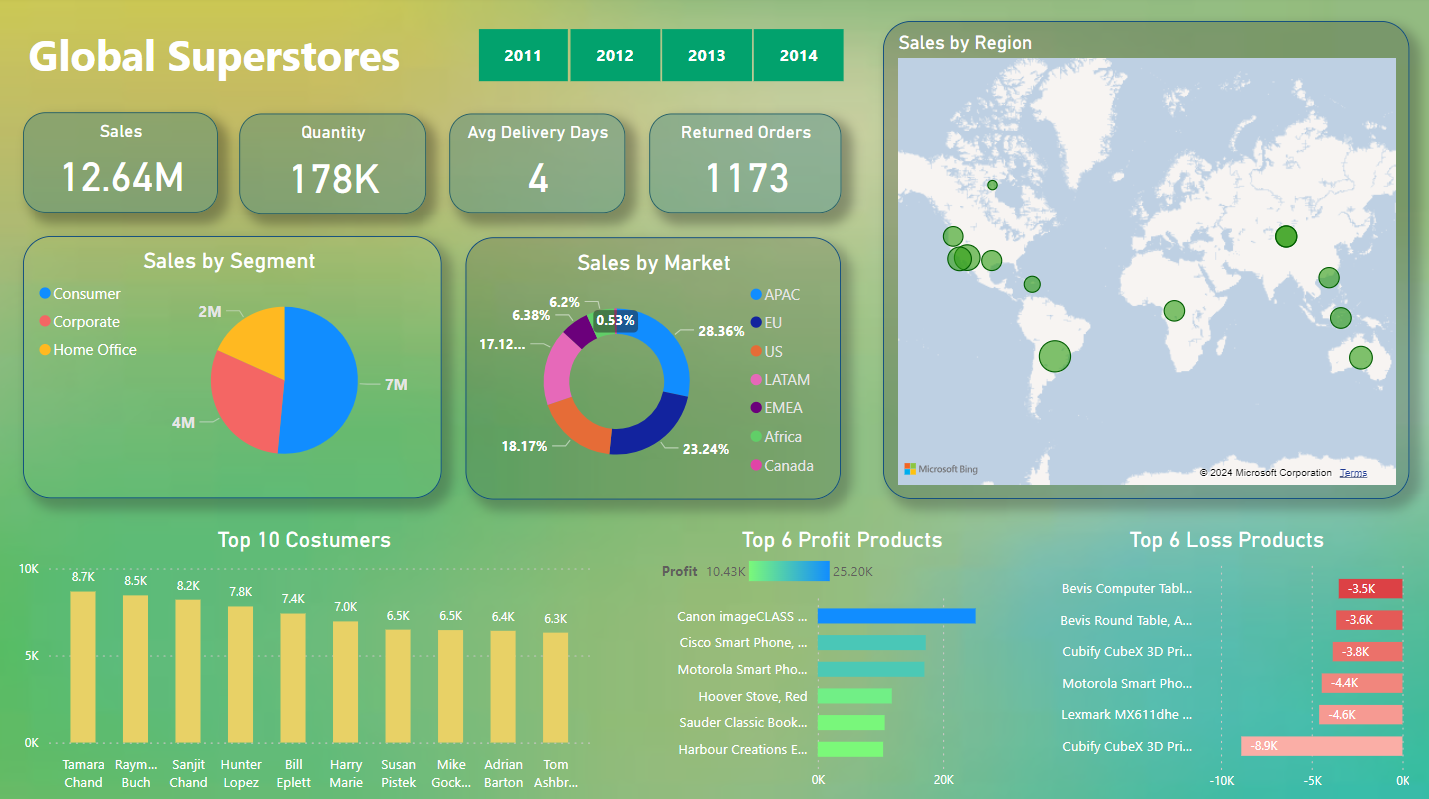

The page's visual inventory and layout, read from the dashboard file:
{"tool":"powerbi","page":{"name":"Page 1","canvas":[1280,720],"ordinal":0},"visuals":[{"type":"card","title":"Sales","fields":{"Values":["Orders.Sales"]},"box":[22.1,103.3,173.3,89.5],"z":0},{"type":"card","title":"Quantity","fields":{"Values":["Orders.Quantity"]},"box":[215.1,104.5,166.3,89.5],"z":1000},{"type":"card","title":"Avg Delivery Days","fields":{"Values":["Orders.Delivery Days"]},"box":[402.4,105,156.5,88.4],"z":2000},{"type":"slicer","title":"Year","fields":{"Values":["Orders.Order Date.Variation.Date Hierarchy.Year"]},"box":[401.7,21.7,375.2,60.3],"z":3000},{"type":"card","title":"Returned Orders","fields":{"Values":["Returns.Returned Orders"]},"box":[580.2,105,171.1,88.4],"z":4000},{"type":"map","fields":{"Category":["Orders.Region"],"Size":["Orders.Sales"]},"box":[788.4,22.1,468.6,425.6],"z":5000},{"type":"clusteredBarChart","title":"Top 6 Profit Products","fields":{"Y":["Orders.Profit"],"Category":["Orders.Product Name"]},"box":[570.5,463.6,341.1,256.6],"z":6000},{"type":"clusteredBarChart","title":"Top 6 Loss Products","fields":{"Category":["Orders.Product Name"],"Y":["Orders.Profit"]},"box":[911.6,462.6,345,257.6],"z":7000},{"type":"clusteredColumnChart","title":"Top 10 Costumers","fields":{"Category":["Orders.Customer Name"],"Y":["Orders.Profit"]},"box":[17.5,462.6,529.7,257.6],"z":8000},{"type":"donutChart","fields":{"Category":["Orders.Market"],"Y":["Orders.Sales"]},"box":[416.9,214.3,334.3,233.4],"z":9000},{"type":"pieChart","fields":{"Category":["Orders.Segment"],"Y":["Orders.Sales"]},"box":[22.1,214,373.2,233.3],"z":10000},{"type":"textbox","box":[22.3,22.3,358.4,70.1],"z":11000}]}

Visuals, with their boxes in screenshot pixels (x1, y1, x2, y2), scaled from the page's 1280x720 canvas onto the 1429x799 screenshot:
"Sales" card: Rect(25, 115, 218, 214)
"Quantity" card: Rect(240, 116, 426, 215)
"Avg Delivery Days" card: Rect(449, 117, 624, 215)
"Year" slicer: Rect(448, 24, 867, 91)
"Returned Orders" card: Rect(648, 117, 839, 215)
map - Orders.Region x Orders.Sales: Rect(880, 25, 1403, 497)
"Top 6 Profit Products" clusteredBarChart: Rect(637, 514, 1018, 798)
"Top 6 Loss Products" clusteredBarChart: Rect(1018, 513, 1403, 798)
"Top 10 Costumers" clusteredColumnChart: Rect(20, 513, 611, 798)
donutChart - Orders.Market x Orders.Sales: Rect(465, 238, 839, 497)
pieChart - Orders.Segment x Orders.Sales: Rect(25, 237, 441, 496)
textbox: Rect(25, 25, 425, 103)
